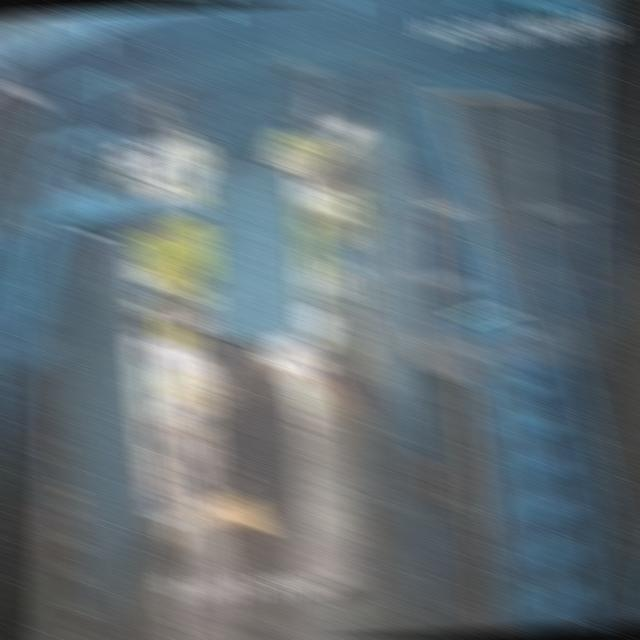cement_mixer_truck: (185, 270, 307, 476)
